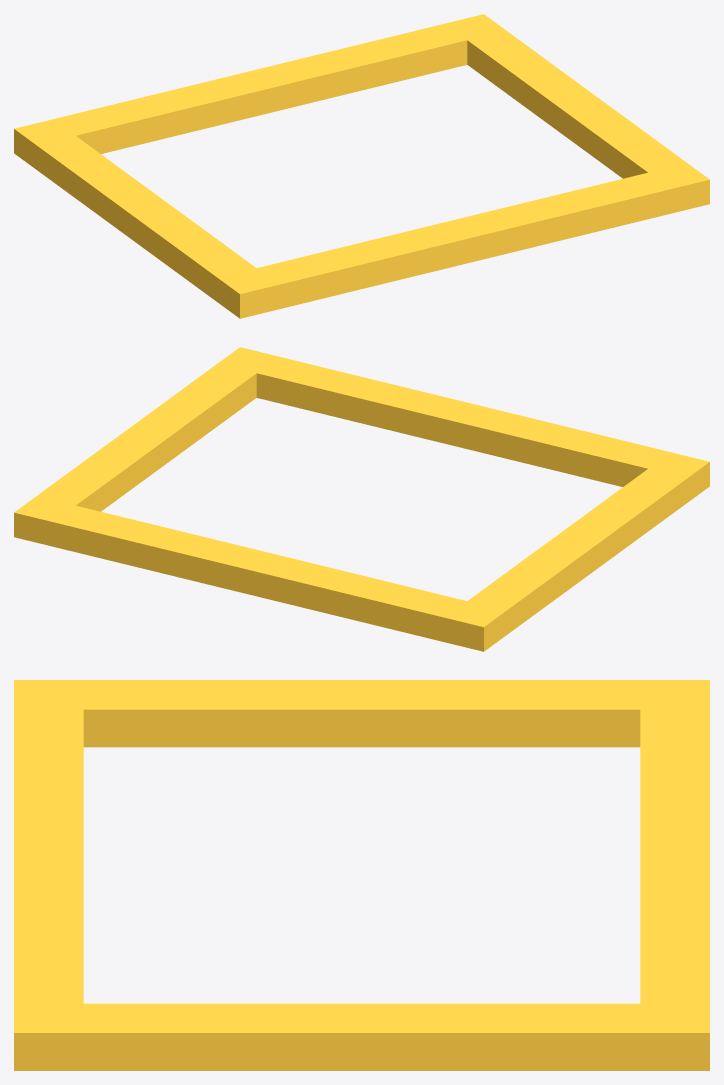
The model's file is chase_frame.glb.
3 renders of one model, top to bottom at view 1: azimuth 30°, elevation 25°; view 2: azimuth 150°, elevation 25°; view 3: azimuth 270°, elevation 25°, orthographic. The views are drawn at different scales.
Visible parts, largest first — view 1: frame_gold; view 2: frame_gold; view 3: frame_gold.
Part boxes in pixels (left/top/right/bottom): frame_gold: left=14, top=14, right=709, bottom=318; frame_gold: left=14, top=347, right=709, bottom=651; frame_gold: left=14, top=680, right=709, bottom=1070.
Size of the model in its own units: 1.2 by 0.06 by 1.
